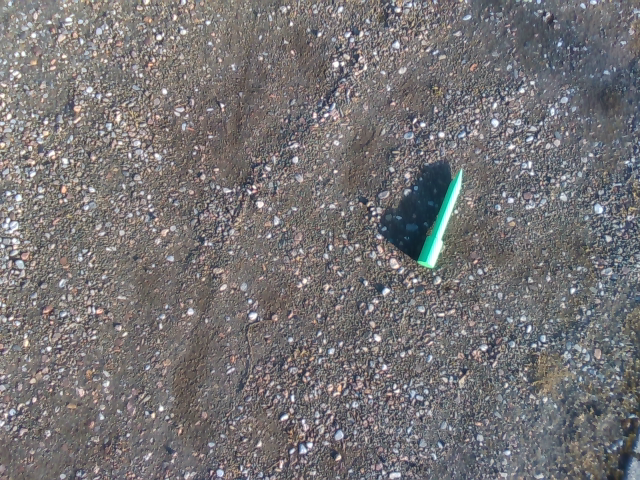Probe: (414, 163, 467, 270)
